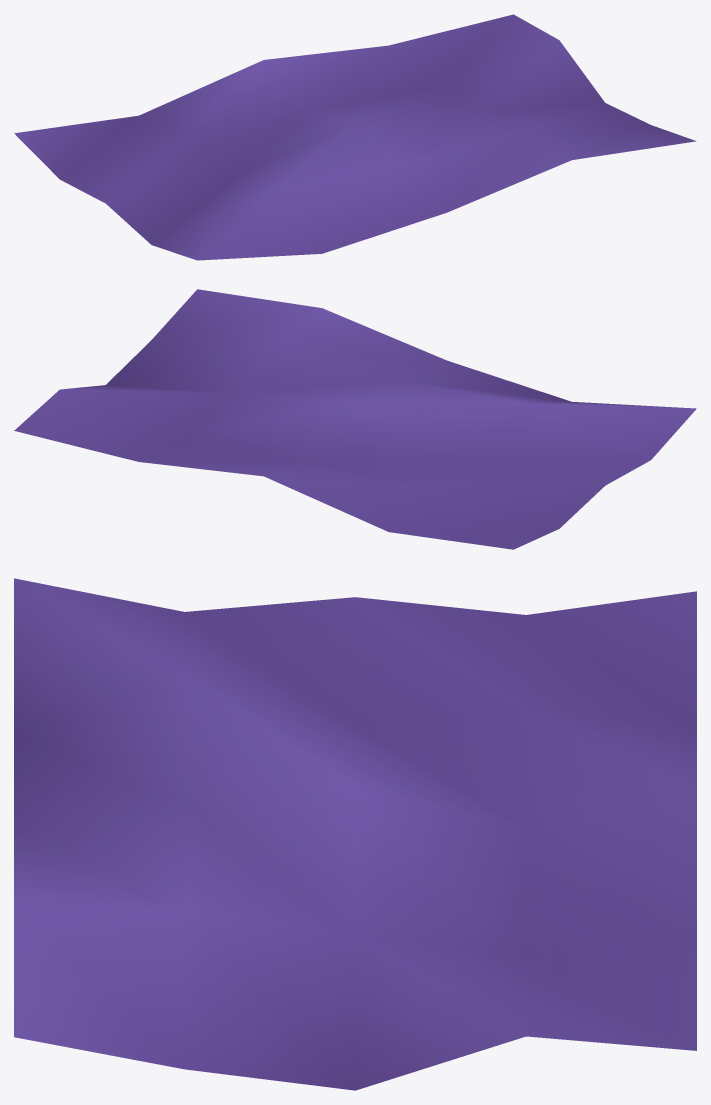
The model's file is ChestSmall2_Velvet.fbx.
The picture shows the model from 3 angles, top to bottom: view 1: azimuth 30°, elevation 25°; view 2: azimuth 150°, elevation 25°; view 3: azimuth 270°, elevation 25°; orthographic projection. The views are drawn at different scales.
Visible parts, largest first — view 1: ChestSmall2_Velvet; view 2: ChestSmall2_Velvet; view 3: ChestSmall2_Velvet.
Boxes of the visible parts, box(x1,y1,x2,y2) form: ChestSmall2_Velvet: box(14, 14, 696, 260); ChestSmall2_Velvet: box(14, 289, 696, 549); ChestSmall2_Velvet: box(14, 578, 696, 1090).
Bounding box in the file's own units: 39.96 × 3.18 × 25.41.
